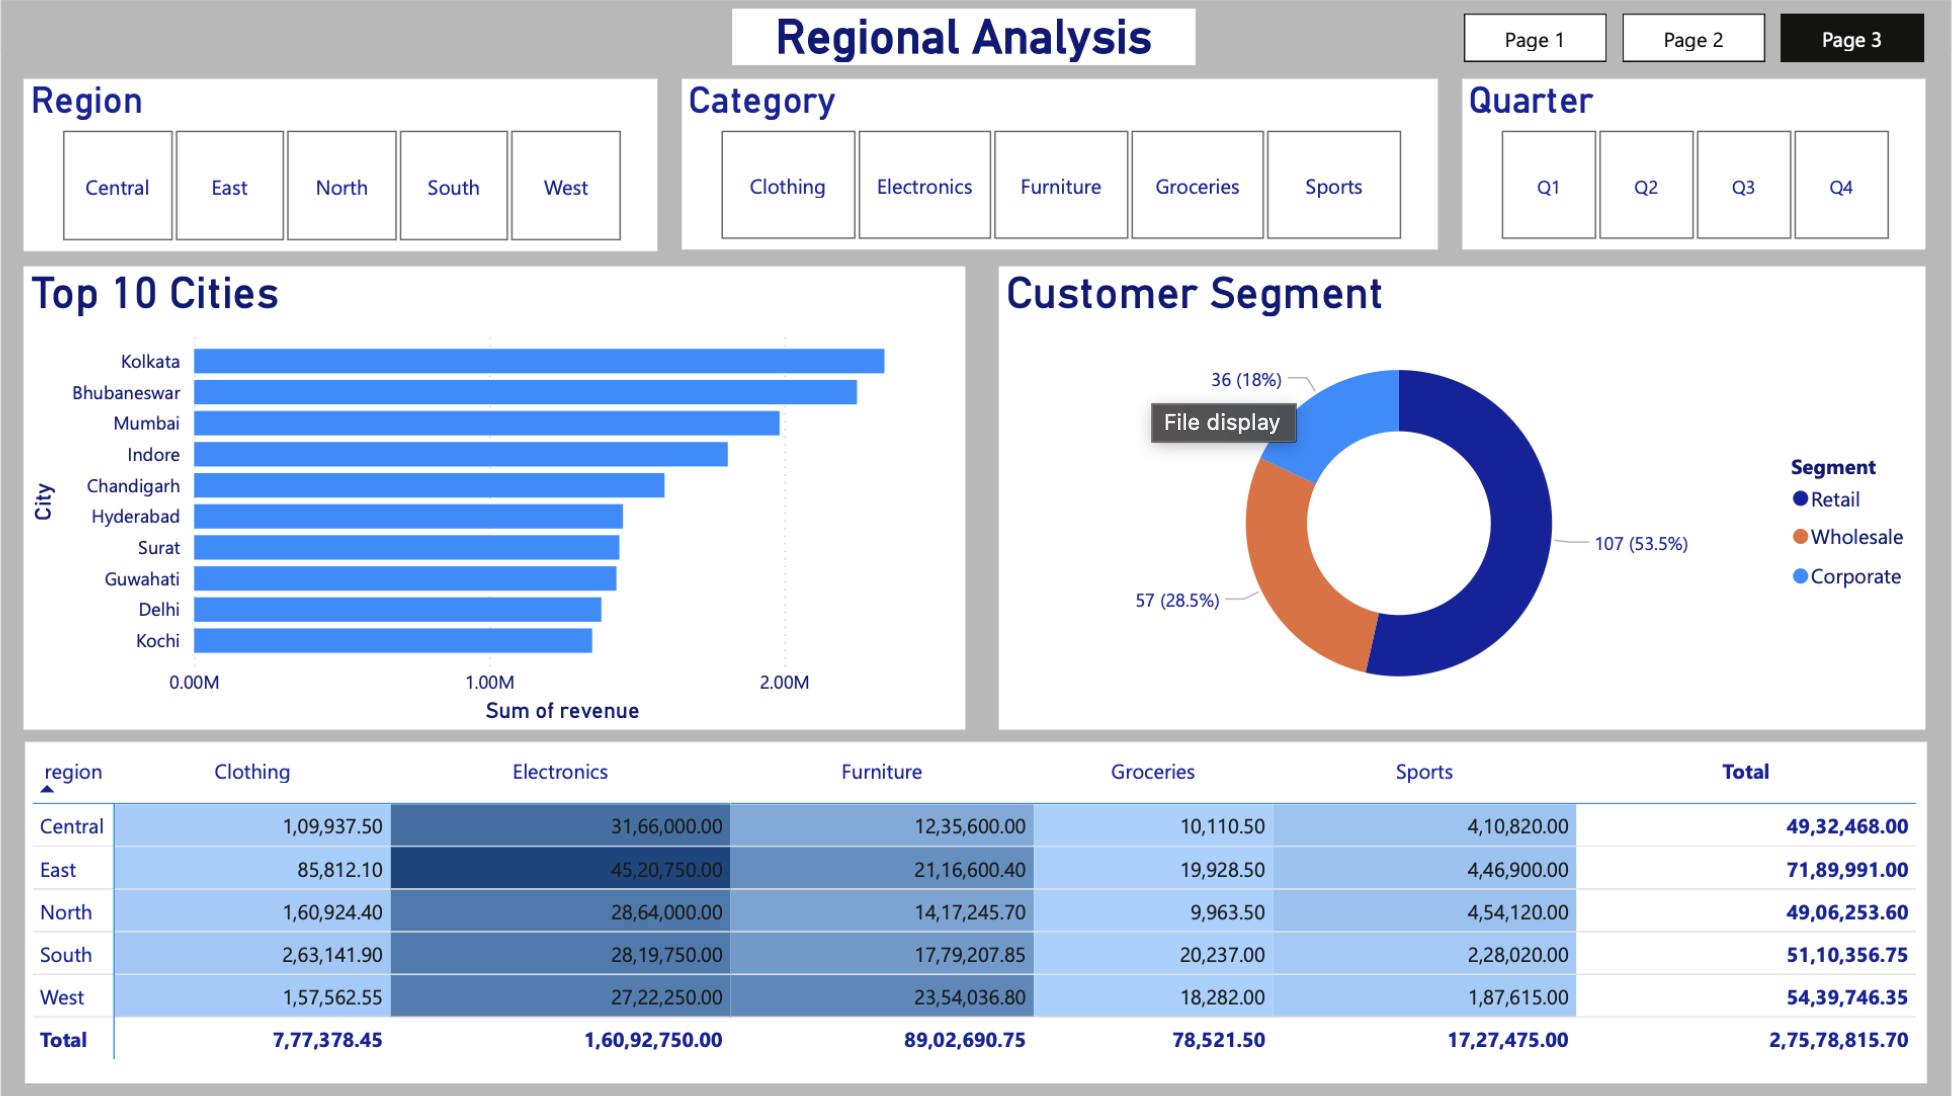

What the dashboard file says about the page in this screenshot:
{"tool":"powerbi","page":{"name":"Page 3","canvas":[1280,720],"ordinal":2},"visuals":[{"type":"pivotTable","fields":{"Rows":["sales_transactions.region"],"Columns":["sales_transactions.category"],"Values":["Sum(sales_transactions.revenue)"]},"box":[16,487.3,1248,224],"z":0},{"type":"barChart","title":"Top 10 Cities","fields":{"Category":["sales_transactions.city"],"Y":["Sum(sales_transactions.revenue)"]},"box":[14.5,174.5,618,304],"z":1000},{"type":"donutChart","title":"Customer Segment","fields":{"Category":["customers.segment"],"Y":["CountNonNull(customers.customer_id)"]},"box":[654.5,174.5,608,304],"z":2000},{"type":"slicer","title":"Region","fields":{"Values":["sales_transactions.region"]},"box":[14.5,52.4,416,113],"z":3000},{"type":"slicer","title":"Quarter","fields":{"Values":["sales_transactions.quarter"]},"box":[958.5,52.4,304,112],"z":4000},{"type":"slicer","title":"Category","fields":{"Values":["sales_transactions.category"]},"box":[446.5,52.4,496,112],"z":5000},{"type":"textbox","title":"Regional Analysis","box":[480,6,304,37],"z":6000},{"type":"pageNavigator","box":[960,9,304,32],"z":6001}]}

Visuals, with their boxes in screenshot pixels (x1, y1, x2, y2), scaled from the page's 1280x720 canvas onto the 1956x1096 screenshot:
pivotTable - sales_transactions.region x sales_transactions.category: pyautogui.locateOnScreen(24, 742, 1932, 1083)
"Top 10 Cities" barChart: pyautogui.locateOnScreen(22, 266, 967, 728)
"Customer Segment" donutChart: pyautogui.locateOnScreen(1000, 266, 1929, 728)
"Region" slicer: pyautogui.locateOnScreen(22, 80, 658, 252)
"Quarter" slicer: pyautogui.locateOnScreen(1465, 80, 1929, 250)
"Category" slicer: pyautogui.locateOnScreen(682, 80, 1440, 250)
"Regional Analysis" textbox: pyautogui.locateOnScreen(734, 9, 1198, 65)
pageNavigator: pyautogui.locateOnScreen(1467, 14, 1932, 62)
